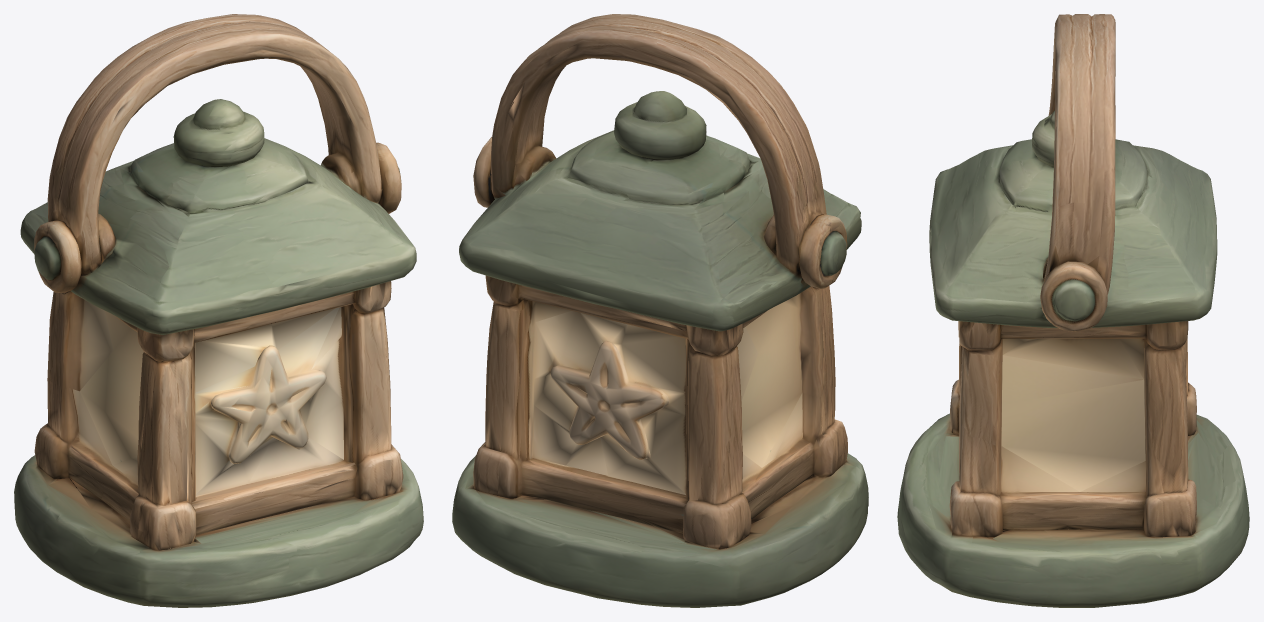
Rendered from lantern-v1.glb.
The picture shows the model from 3 angles, left to right: view 1: azimuth 30°, elevation 25°; view 2: azimuth 150°, elevation 25°; view 3: azimuth 270°, elevation 25°; orthographic projection. The views are drawn at different scales.
Visible parts, largest first — view 1: tripo_node_9c0a0ece-57b7-4bea-b5e7-41435d7e5e85; view 2: tripo_node_9c0a0ece-57b7-4bea-b5e7-41435d7e5e85; view 3: tripo_node_9c0a0ece-57b7-4bea-b5e7-41435d7e5e85.
Boxes of the visible parts, x1,y1,x2,y2 form: tripo_node_9c0a0ece-57b7-4bea-b5e7-41435d7e5e85: [14, 14, 423, 607]; tripo_node_9c0a0ece-57b7-4bea-b5e7-41435d7e5e85: [452, 14, 868, 607]; tripo_node_9c0a0ece-57b7-4bea-b5e7-41435d7e5e85: [897, 14, 1249, 607].
Size of the model in its own units: 0.4795 by 0.6498 by 0.4199.
Materials: 1 (1 with a texture image).
